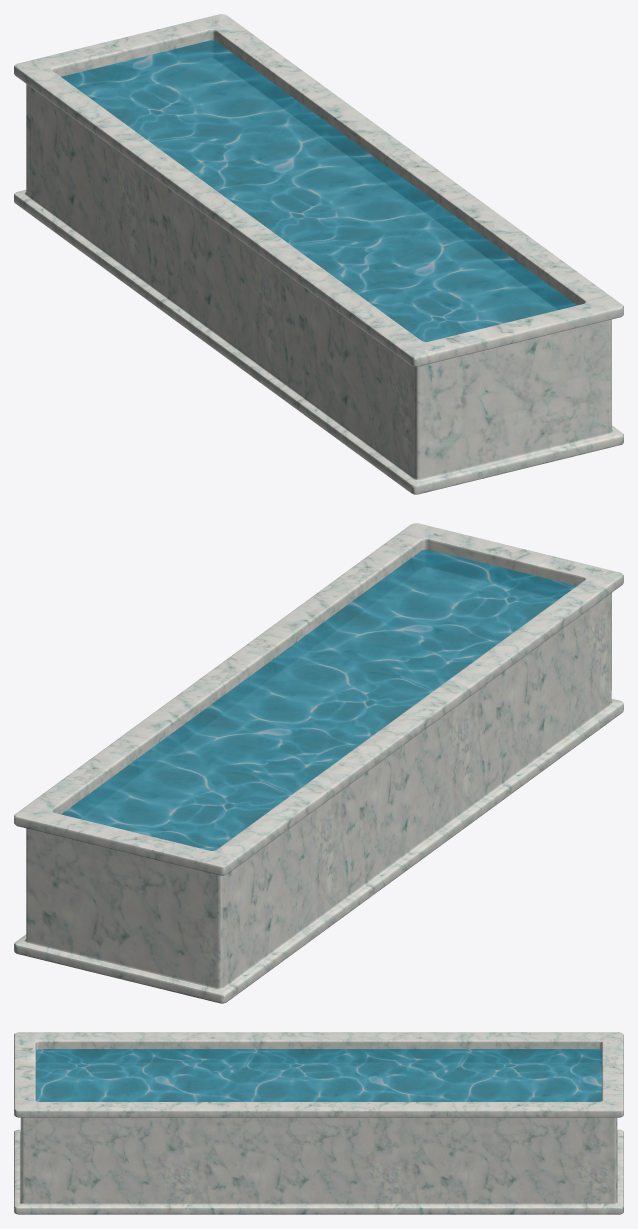
Rendered from RC_Decorative_03.gltf.
3 renders of one model, top to bottom at view 1: azimuth 30°, elevation 25°; view 2: azimuth 150°, elevation 25°; view 3: azimuth 270°, elevation 25°, orthographic. The views are drawn at different scales.
Visible parts, largest first — view 1: RC_Decorative_03(Clone); view 2: RC_Decorative_03(Clone); view 3: RC_Decorative_03(Clone).
Boxes of the visible parts, left/top/right/bottom form: RC_Decorative_03(Clone): left=14, top=14, right=623, bottom=494; RC_Decorative_03(Clone): left=14, top=523, right=623, bottom=1003; RC_Decorative_03(Clone): left=14, top=1032, right=623, bottom=1214.
Size of the model in its own units: 0.9347 by 0.5805 by 3.06.
2 materials, 2 textured.
